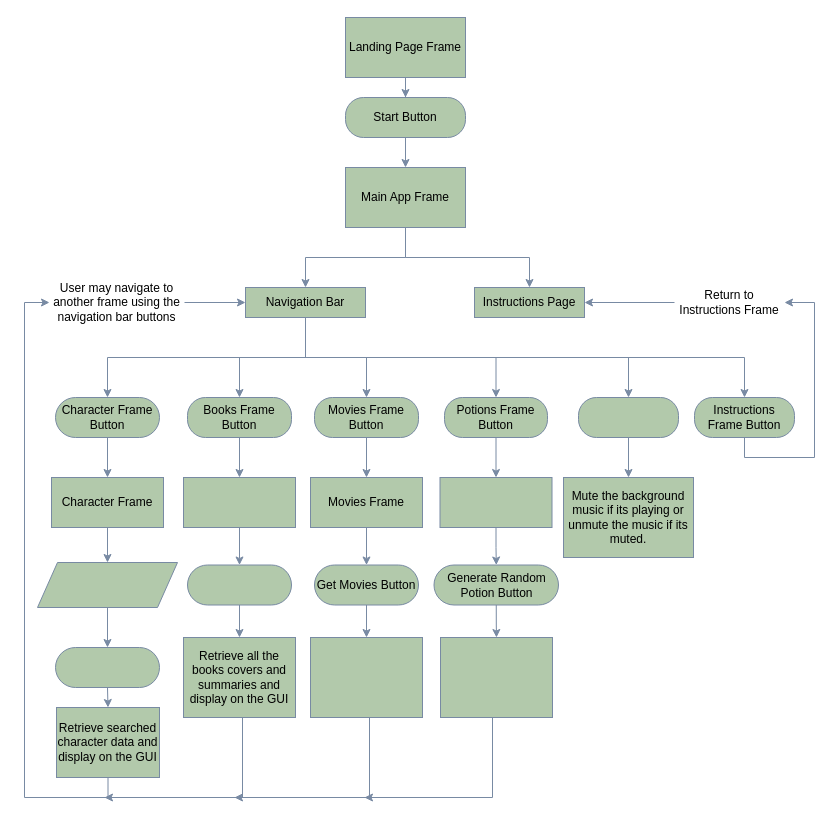
Some shapes in this 840 by 823 pixel diagram are drawn without their labels. The centre of each missing label's shape, as x and y in pixels:
"Books Frame" belongs at point (239, 502).
"Get Books Button" belongs at point (239, 584).
"Mute/Unmute Music Button" belongs at point (628, 417).
"Potions Frame" belongs at point (495, 502).
"Retrieve a random potion's image and other information and display on the GUI" belongs at point (496, 677).
"Retrieve all the Movies posters and summaries and display on the GUI" belongs at point (366, 677).
"Search Button" belongs at point (107, 667).
"User searches for any character" belongs at point (107, 585).
